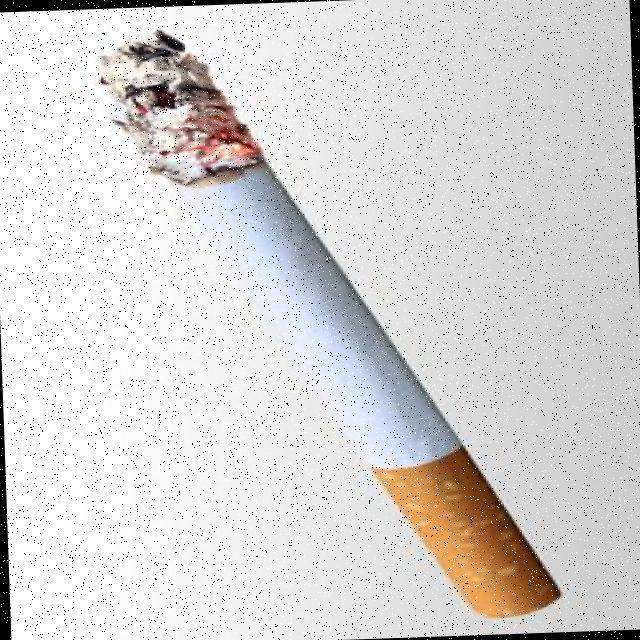cigarette: (80, 23, 582, 625)
